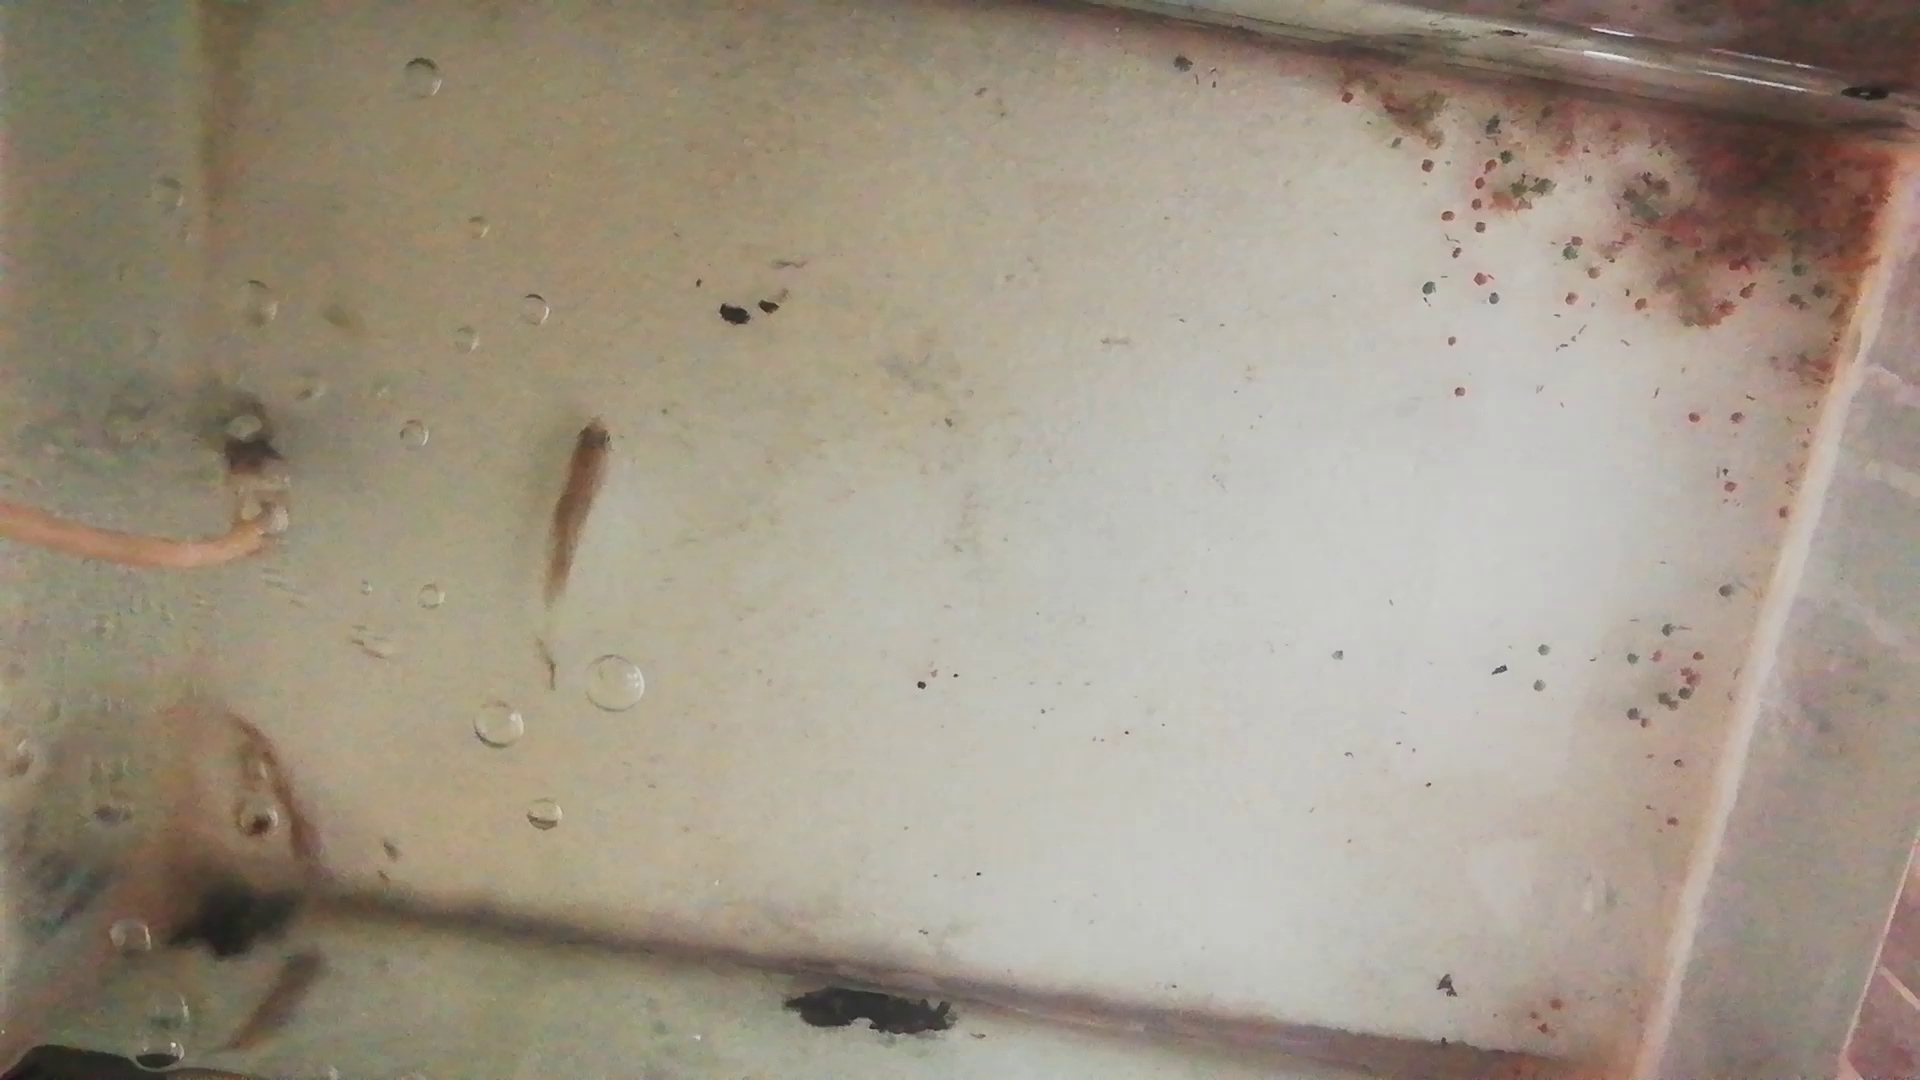fish: (216, 705, 330, 876), (537, 423, 609, 597)
